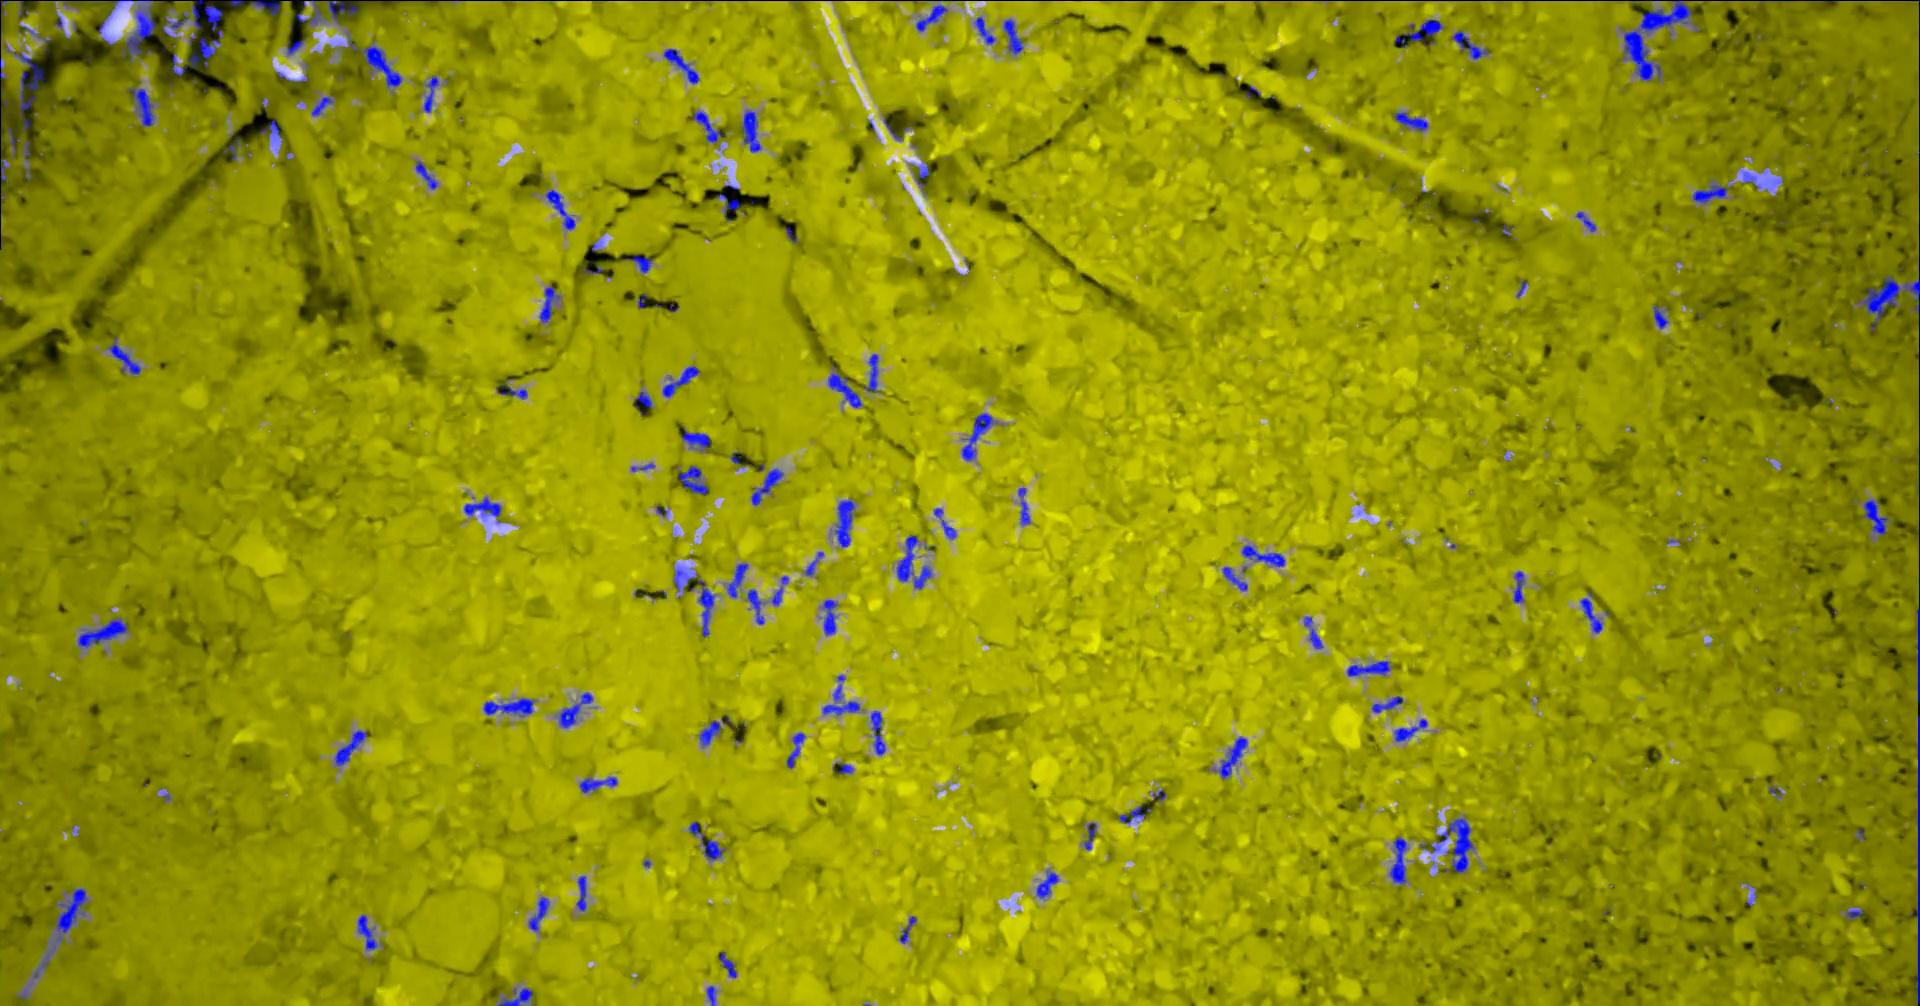ant: (171, 0, 223, 75), (1427, 817, 1474, 873), (1910, 714, 1919, 1005), (348, 39, 403, 86), (119, 5, 156, 62), (14, 52, 44, 116), (55, 888, 86, 941), (328, 0, 403, 22), (961, 413, 996, 460), (822, 674, 858, 715), (77, 617, 127, 647), (688, 821, 724, 860), (1394, 19, 1443, 47), (1218, 735, 1247, 779), (750, 467, 783, 506), (663, 48, 698, 83), (545, 189, 575, 229), (557, 692, 592, 727), (827, 373, 862, 406), (108, 337, 140, 373), (334, 730, 367, 765), (662, 366, 698, 396), (1451, 30, 1490, 58), (1578, 591, 1603, 633), (127, 86, 152, 126), (692, 111, 723, 142), (463, 497, 502, 522), (897, 533, 917, 580), (1241, 545, 1284, 567), (834, 500, 855, 546), (698, 715, 729, 746), (697, 580, 714, 636), (483, 699, 533, 716), (678, 465, 709, 494), (1863, 499, 1888, 533), (916, 4, 947, 30), (1389, 837, 1407, 883), (32, 942, 55, 977), (1394, 718, 1427, 741), (538, 285, 559, 321), (1003, 19, 1023, 55), (742, 111, 759, 151), (528, 895, 549, 931), (786, 732, 805, 768), (1346, 661, 1390, 676), (870, 710, 885, 754), (933, 508, 955, 539), (1393, 111, 1427, 130), (728, 563, 747, 597), (357, 915, 376, 949), (295, 0, 321, 24), (1691, 184, 1727, 202), (497, 987, 532, 1005), (163, 11, 188, 36), (716, 193, 739, 220), (673, 569, 696, 596), (579, 776, 616, 793), (415, 160, 436, 189), (1222, 567, 1247, 589), (1036, 871, 1058, 898), (974, 17, 994, 44), (747, 589, 763, 624), (423, 75, 438, 112), (681, 428, 710, 447), (863, 353, 877, 392), (1371, 695, 1402, 713), (822, 600, 837, 634), (771, 575, 789, 605), (249, 0, 282, 15), (497, 382, 527, 399), (623, 254, 651, 272), (1117, 805, 1144, 823), (899, 915, 916, 942), (804, 551, 823, 575), (717, 951, 735, 977), (632, 391, 651, 414), (1017, 486, 1029, 525), (1575, 211, 1595, 231), (913, 565, 931, 588), (311, 97, 331, 116), (259, 119, 281, 137), (223, 138, 241, 160), (1512, 570, 1524, 602), (916, 165, 930, 191), (8, 127, 19, 158), (1653, 305, 1667, 328), (577, 875, 585, 911), (1083, 822, 1095, 848), (1309, 627, 1323, 648), (286, 39, 303, 55), (1916, 605, 1919, 702), (785, 226, 796, 243), (0, 158, 8, 182), (1845, 909, 1863, 920), (706, 984, 715, 1005), (836, 763, 852, 774)
